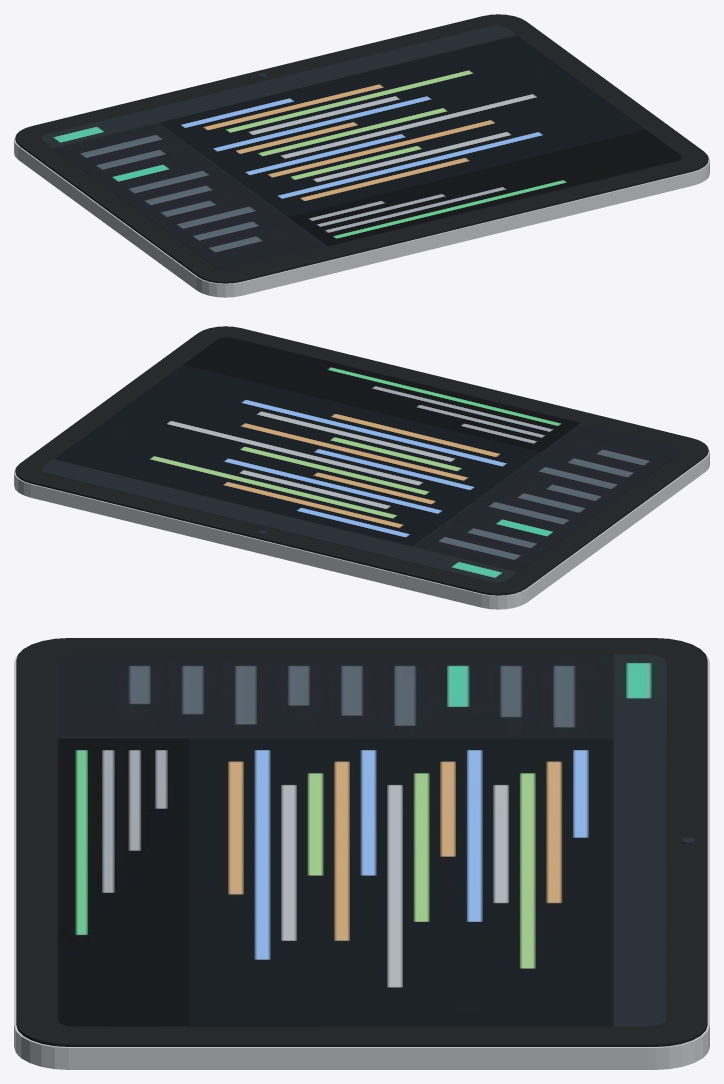
Rendered from tablet.glb.
3 views of the same model, one above another, from view 1: azimuth 30°, elevation 25°; view 2: azimuth 150°, elevation 25°; view 3: azimuth 270°, elevation 25° (orthographic). The views are drawn at different scales.
Parts seen in each view (by area): view 1: tablet; view 2: tablet; view 3: tablet.
Boxes of the visible parts, left/top/right/bottom form: tablet: left=14, top=14, right=709, bottom=297; tablet: left=14, top=326, right=709, bottom=609; tablet: left=14, top=638, right=709, bottom=1069.
Size of the model in its own units: 0.247 by 0.0073 by 0.178.
Materials: 4 (1 with a texture image).
